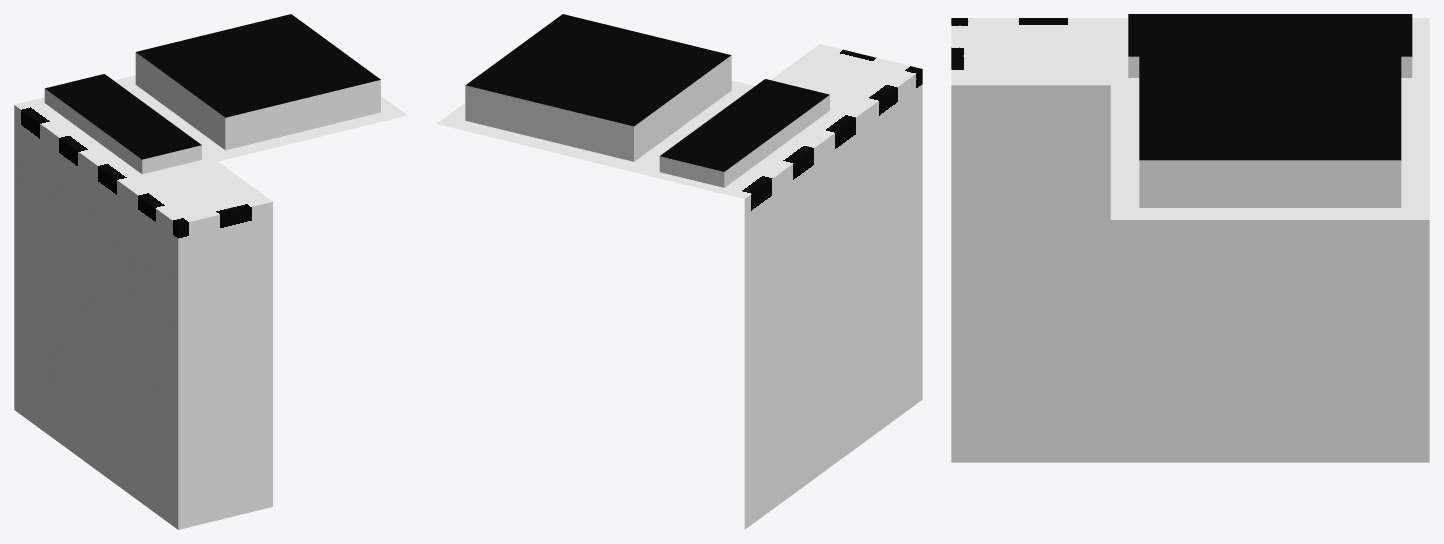
Rendered from models.gltf.
The picture shows the model from 3 angles, left to right: view 1: azimuth 30°, elevation 25°; view 2: azimuth 150°, elevation 25°; view 3: azimuth 270°, elevation 25°; orthographic projection. The views are drawn at different scales.
Parts seen in each view (by area): view 1: TileCorner, TileEdge, CityCenter, CityEdge, TileCenter; view 2: TileEdge, CityCenter, TileCorner, CityEdge, TileCenter; view 3: TileEdge, TileCorner, CityCenter, CityEdge, TileCenter.
Part boxes in pixels (x1,y1,x2,y2): TileCorner: [123, 162, 272, 529]; TileEdge: [14, 97, 217, 489]; CityCenter: [115, 14, 406, 160]; CityEdge: [33, 74, 217, 180]; TileCenter: [114, 75, 407, 161]; TileEdge: [642, 104, 863, 529]; CityCenter: [438, 14, 753, 173]; TileCorner: [771, 44, 922, 442]; CityEdge: [642, 79, 846, 194]; TileCenter: [437, 80, 754, 173]; TileEdge: [1110, 18, 1429, 462]; TileCorner: [951, 18, 1110, 462]; CityCenter: [1110, 49, 1429, 219]; CityEdge: [1110, 14, 1429, 85]; TileCenter: [1110, 85, 1429, 219].
Size of the model in its own units: 0.75 by 0.8518 by 0.75.
1 material, 1 textured.
